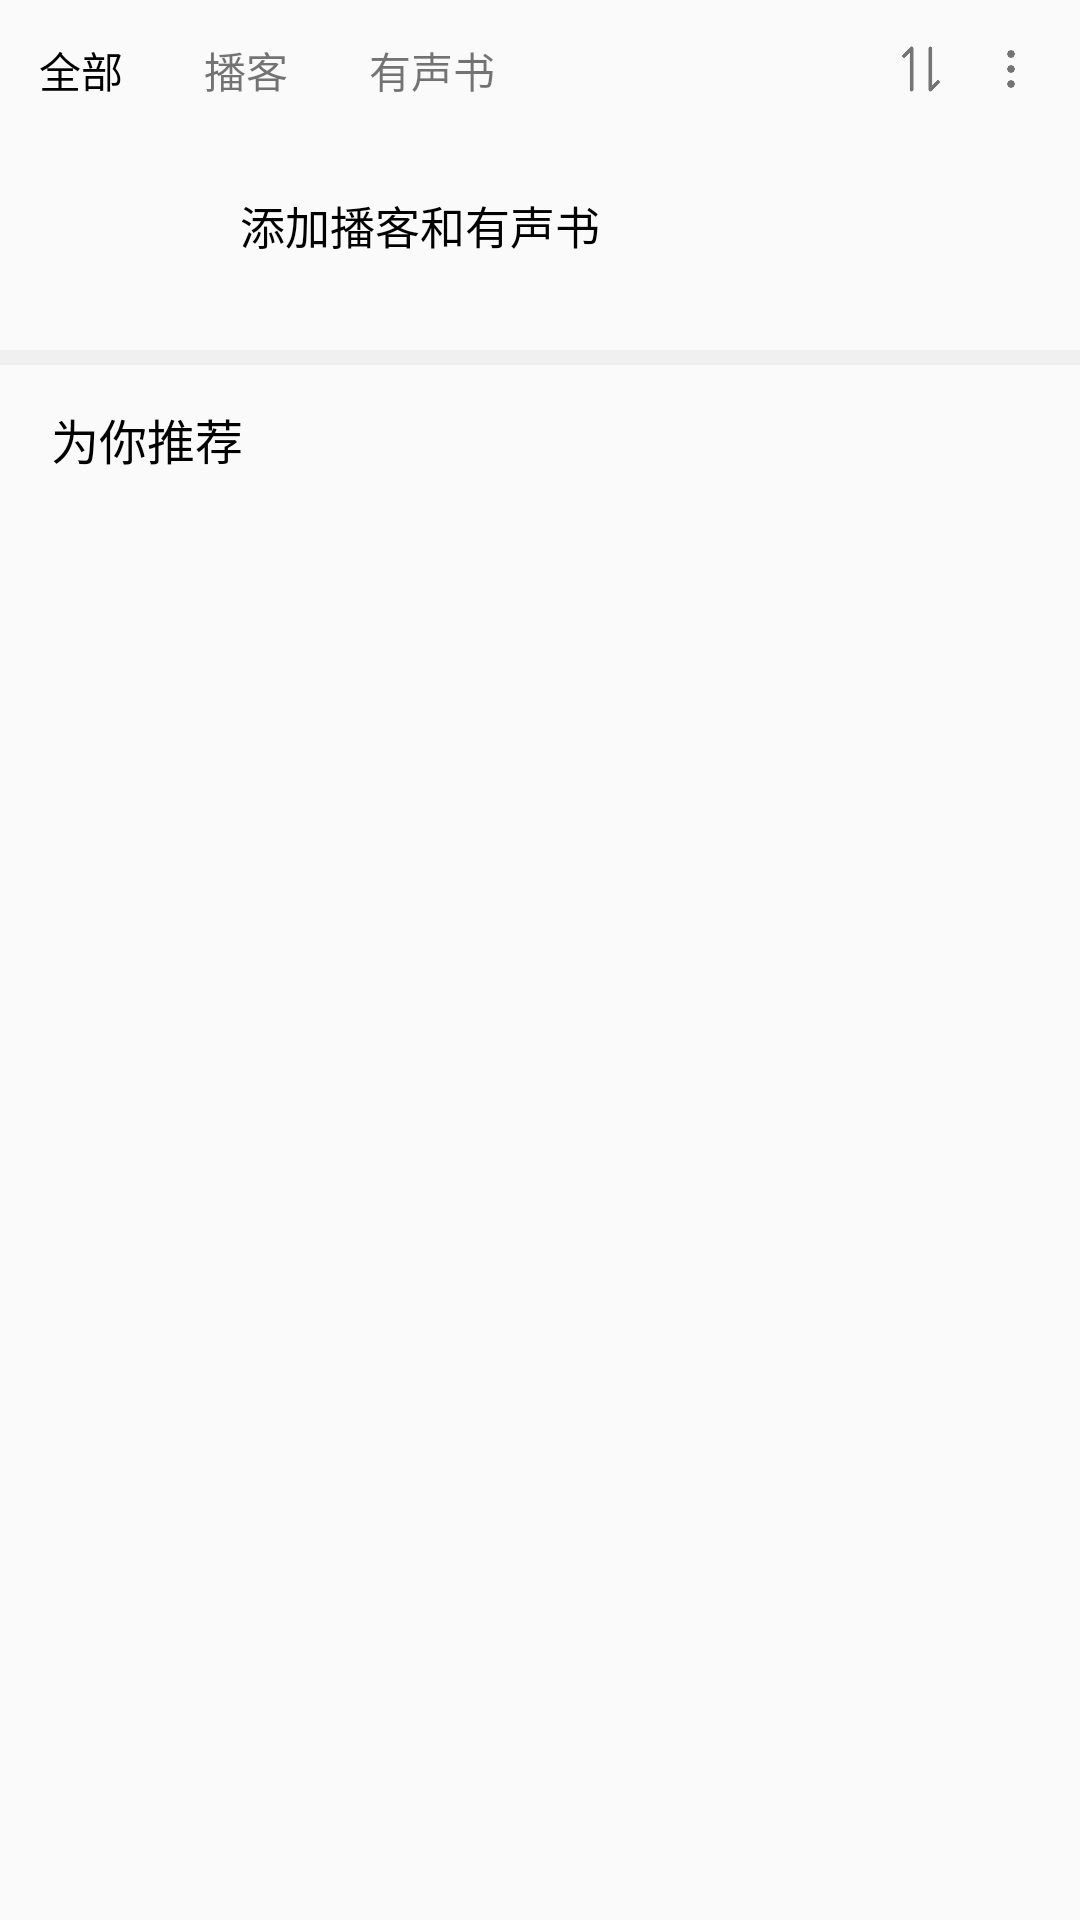

Point at icon controls on the screen. Image size 1080 × 1920, points as point (x, y).
vertical more: point (1011, 69)
